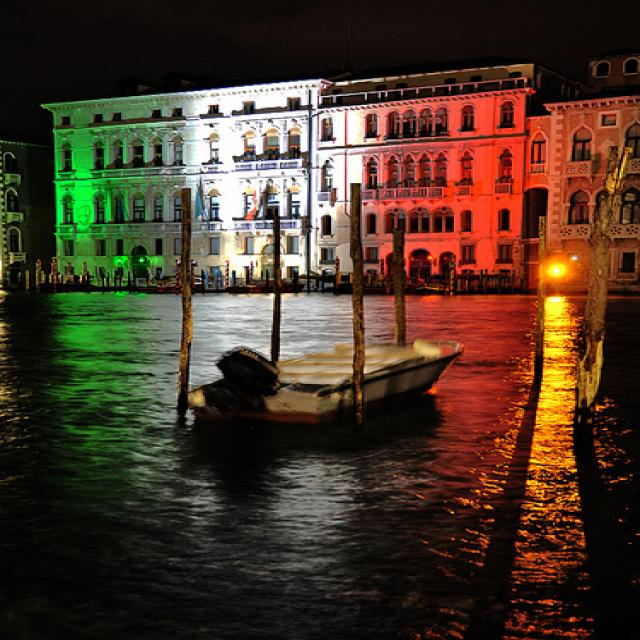Boat: (164, 331, 484, 457)
